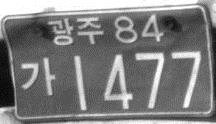1: (72, 53, 90, 112)
4: (100, 52, 135, 111), (139, 12, 166, 43)
7: (169, 48, 203, 110), (133, 49, 166, 111)
8: (113, 15, 138, 45)
가: (19, 56, 56, 97)
광주_O: (46, 14, 104, 46)
